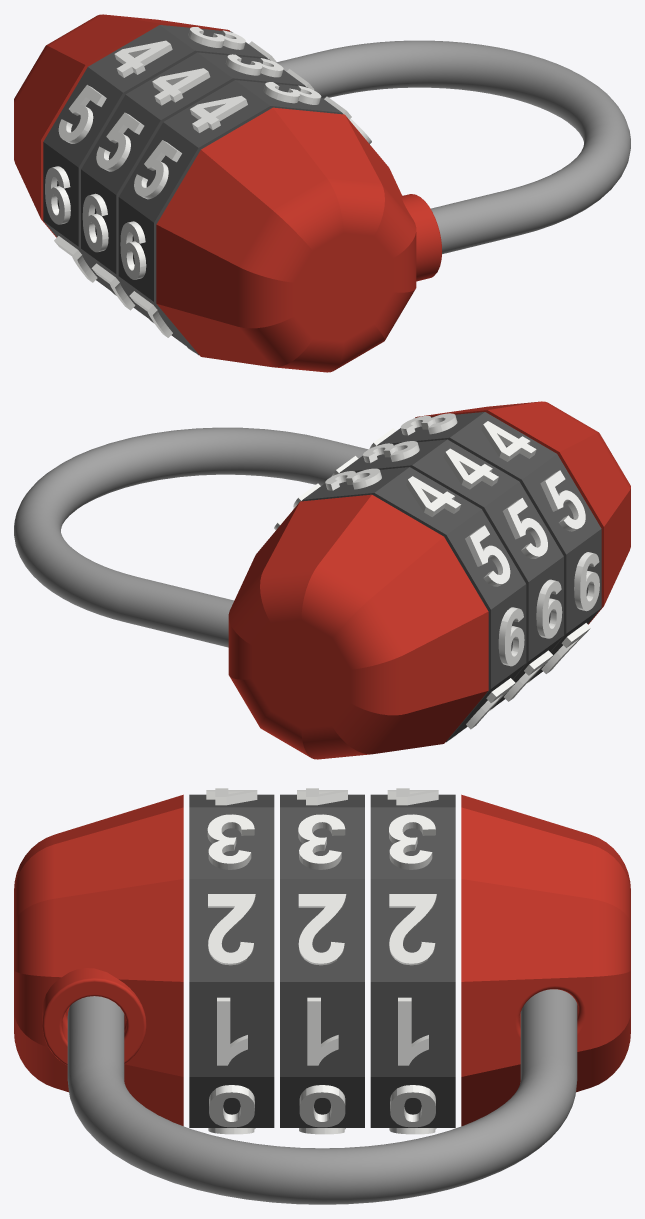
The model's file is Lock.fbx.
The picture shows the model from 3 angles, top to bottom: view 1: azimuth 30°, elevation 25°; view 2: azimuth 150°, elevation 25°; view 3: azimuth 270°, elevation 25°; orthographic projection. The views are drawn at different scales.
Visible parts, largest first — view 1: Body13, Body1 (×18), Body14, Body12; view 2: Body12, Body1 (×18), Body14, Body13; view 3: Body1 (×18), Body13, Body12, Body14.
Boxes of the visible parts, bbox=[...] form: Body13: bbox=[156, 107, 442, 372]; Body1 (×18): bbox=[43, 25, 343, 355]; Body14: bbox=[276, 40, 630, 254]; Body12: bbox=[14, 14, 230, 237]; Body12: bbox=[228, 494, 488, 759]; Body1 (×18): bbox=[301, 412, 601, 742]; Body14: bbox=[14, 427, 368, 647]; Body13: bbox=[415, 401, 630, 624]; Body1 (×18): bbox=[189, 788, 455, 1127]; Body13: bbox=[14, 794, 183, 1125]; Body12: bbox=[461, 794, 630, 1126]; Body14: bbox=[67, 989, 577, 1204].
Size of the model in its own units: 2501 by 1221 by 2180.
